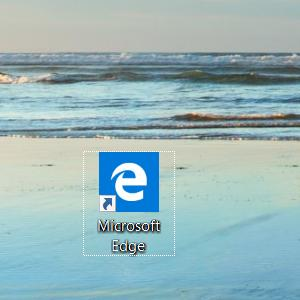edge: (99, 152, 158, 212)
